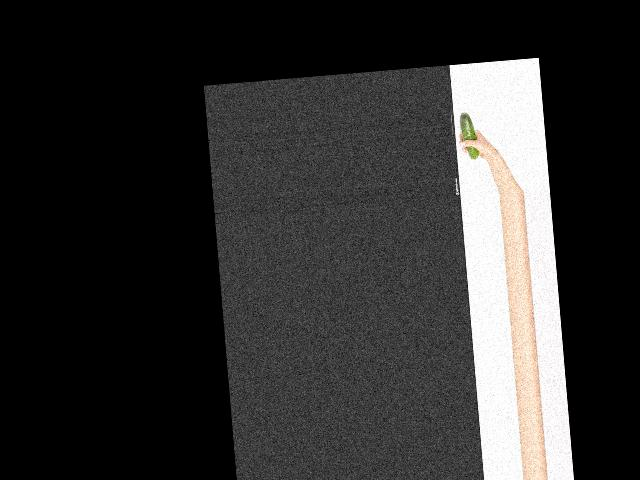cucumber: (458, 110, 479, 159)
